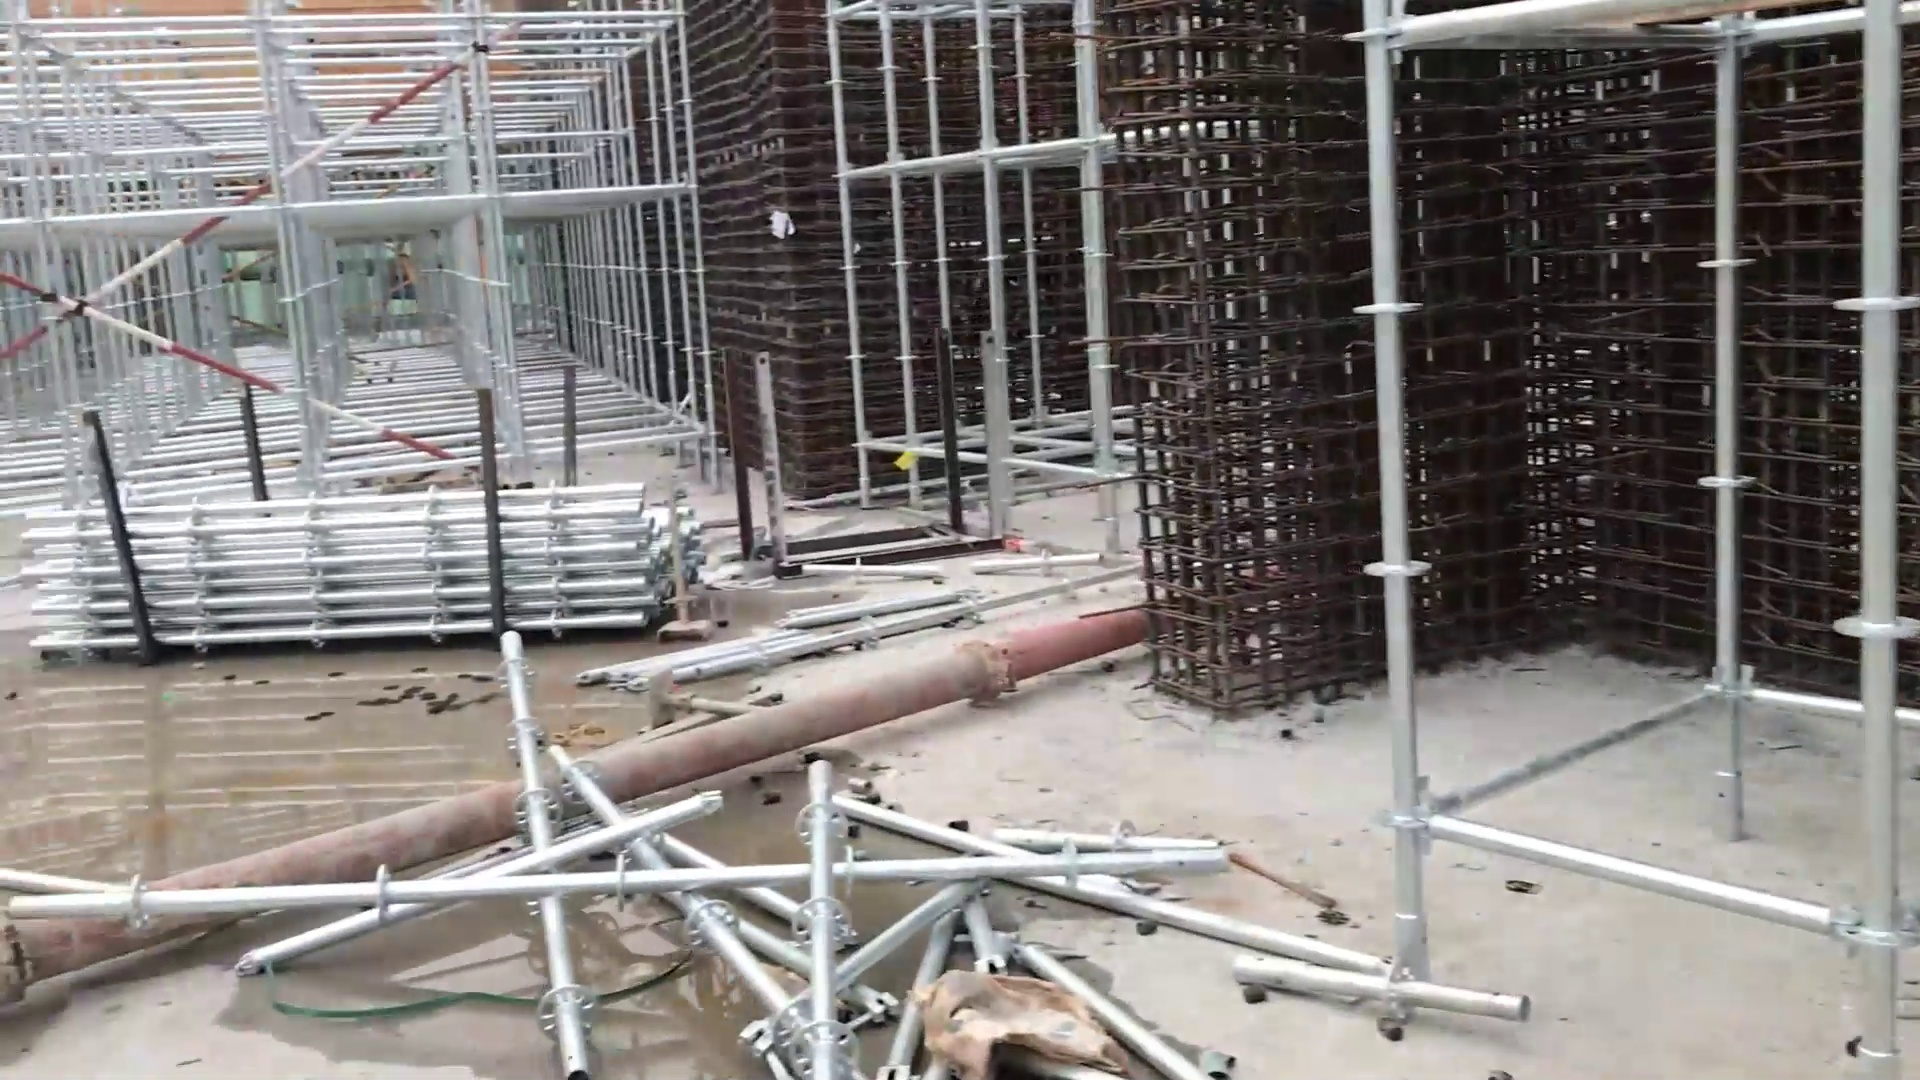scaffold: (7, 469, 684, 646)
